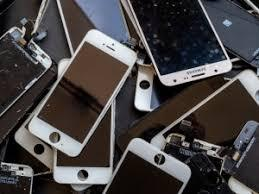Smartphone: (29, 49, 138, 146), (166, 71, 259, 184), (123, 0, 225, 74), (61, 60, 115, 185), (107, 134, 184, 194), (0, 24, 49, 105), (132, 71, 221, 114), (17, 102, 62, 162)
